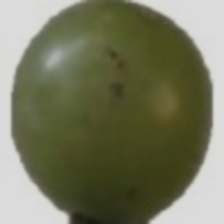grapes: (45, 26, 205, 198)
